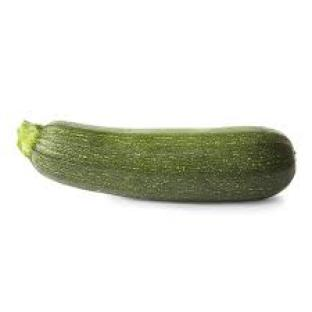Zucchini: (19, 123, 295, 201)
